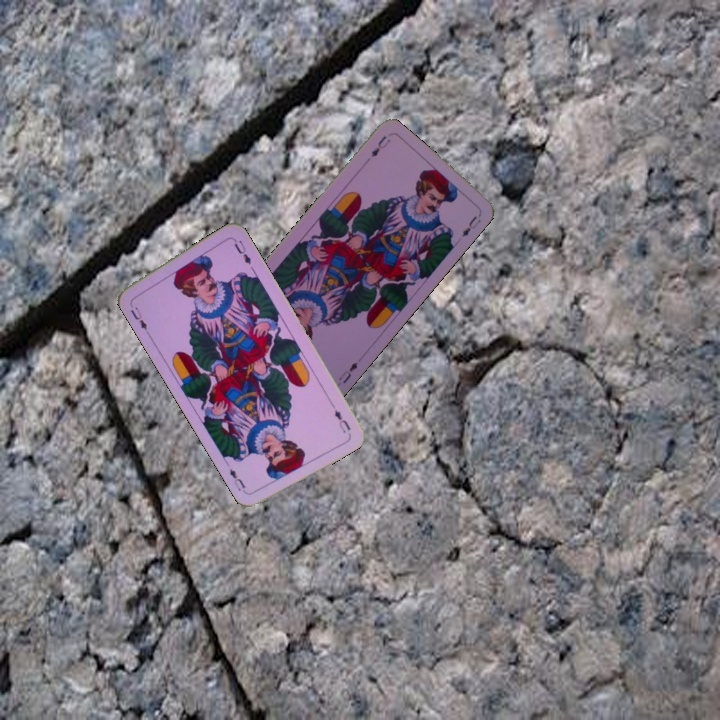EU: (126, 302, 152, 336), (366, 131, 393, 160), (334, 358, 360, 386), (330, 406, 353, 436)
